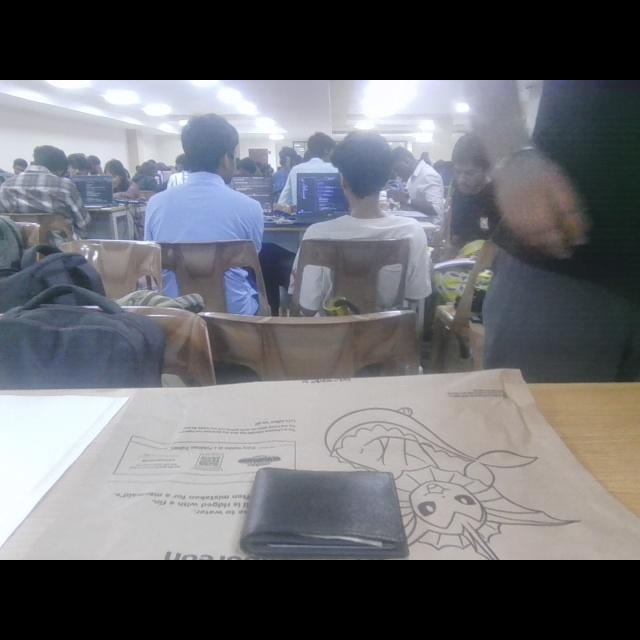wallet: (234, 444, 438, 560)
